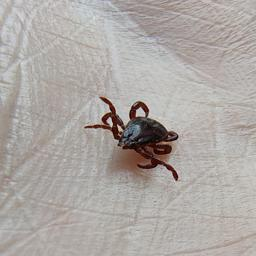Rhipicephalus sanguineus: (84, 97, 182, 182)
